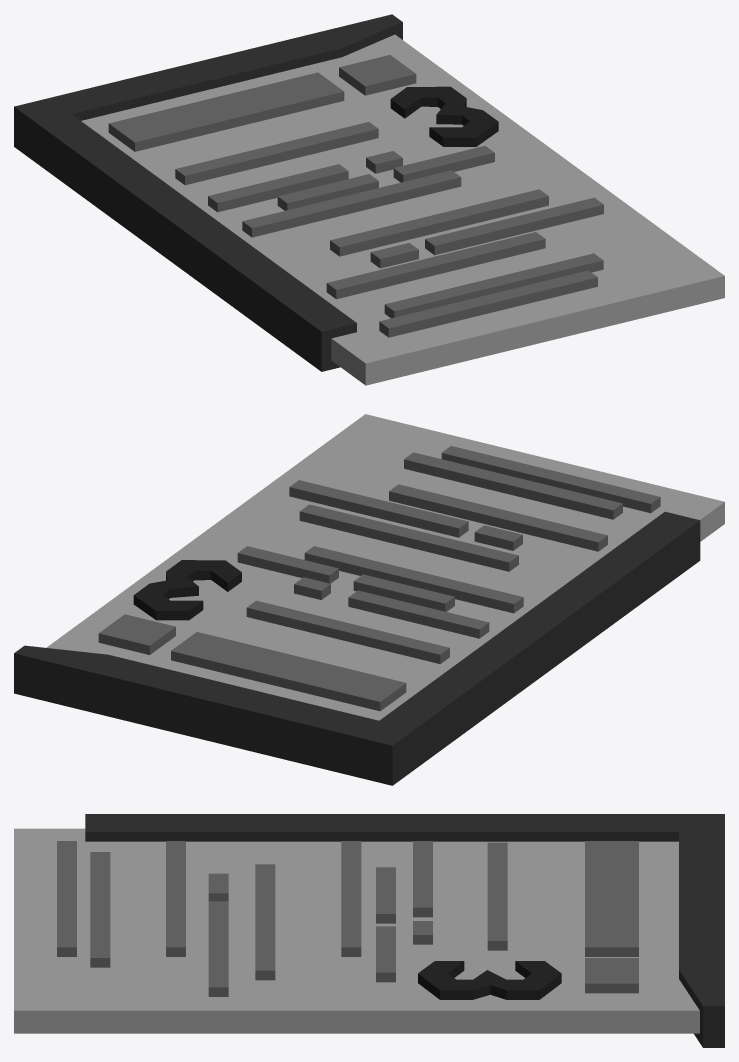
File: dossier_3.FBX
3 views of the same model, one above another, from view 1: azimuth 30°, elevation 25°; view 2: azimuth 150°, elevation 25°; view 3: azimuth 270°, elevation 25° (orthographic). The views are drawn at different scales.
Visible parts, largest first — view 1: dossier_3; view 2: dossier_3; view 3: dossier_3.
Part boxes in pixels (x1,y1,x2,y2): dossier_3: [14, 14, 724, 385]; dossier_3: [14, 414, 724, 785]; dossier_3: [14, 814, 724, 1047].
Size of the model in its own units: 18.59 by 1.9 by 29.11.
